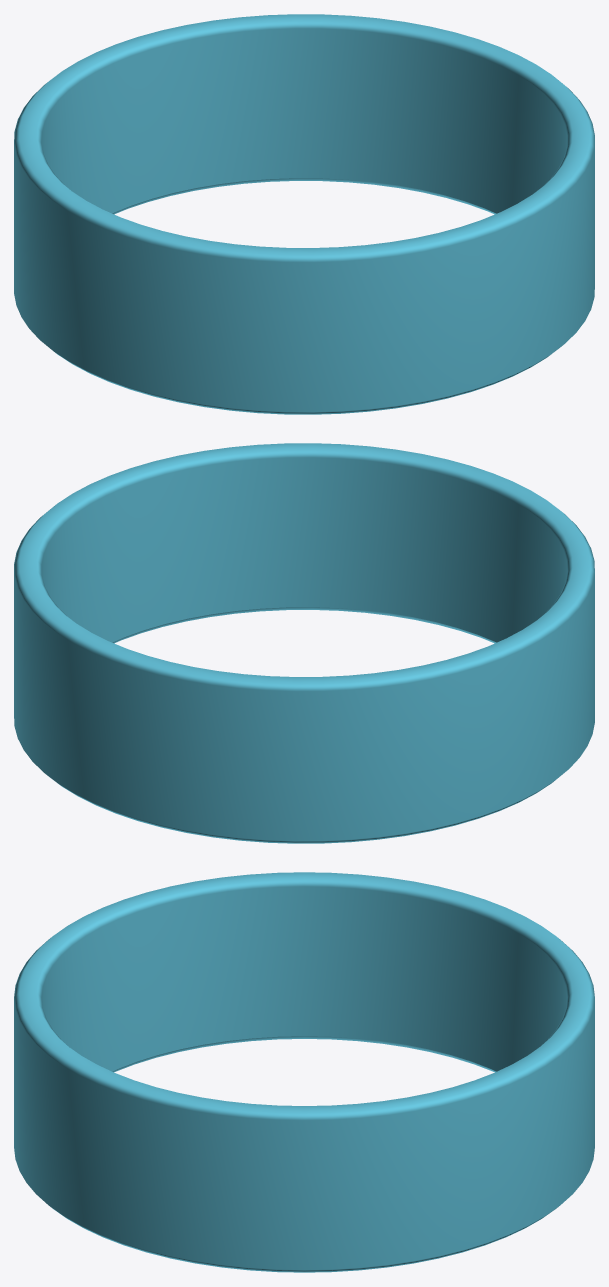
3 renders of one model, top to bottom at view 1: azimuth 30°, elevation 25°; view 2: azimuth 150°, elevation 25°; view 3: azimuth 270°, elevation 25°, orthographic.
Parts seen in each view (by area): view 1: seal_body; view 2: seal_body; view 3: seal_body.
Part boxes in pixels (left/top/right/bottom): seal_body: left=14, top=14, right=594, bottom=414; seal_body: left=14, top=443, right=594, bottom=843; seal_body: left=14, top=872, right=594, bottom=1272.
Bounding box in the file's own units: 0.0419 × 0.0127 × 0.0419.
